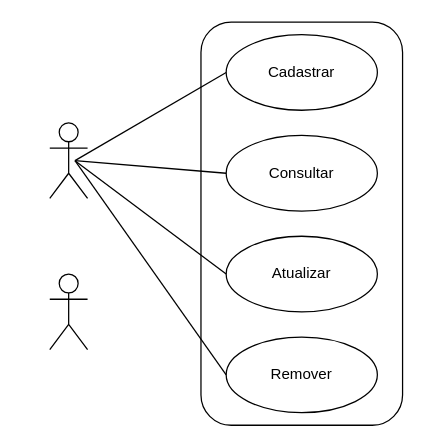
This 425x447 diagram has some shape labels left out. Each missing label, with the centre of its shape:
"Administrador" belongs at pixel 68 160.
"Funcionário" belongs at pixel 68 311.
